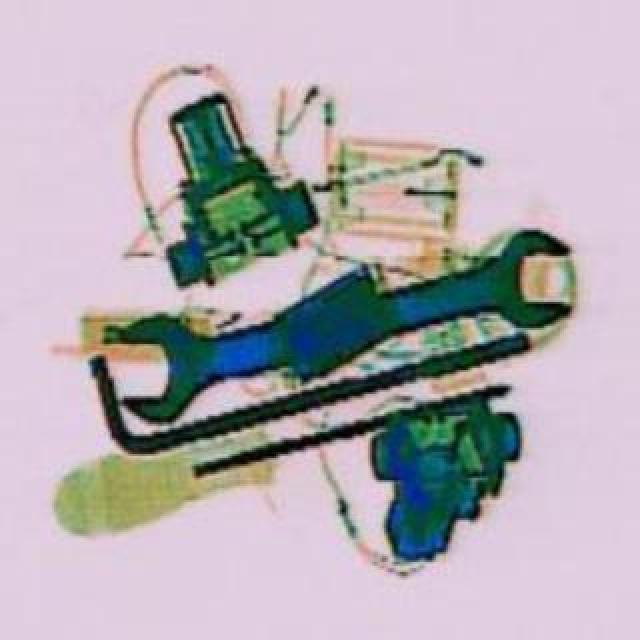scissors: (96, 212, 588, 424)
